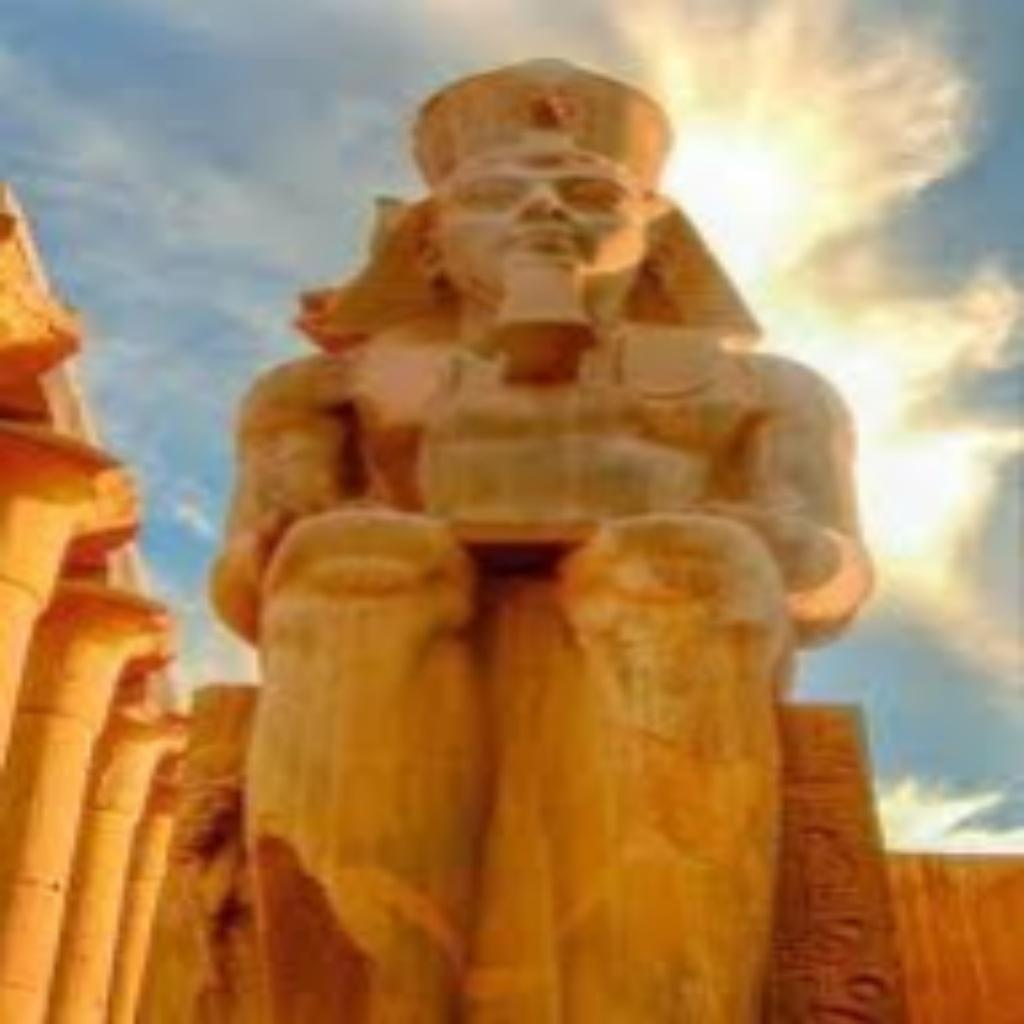Statue of King Ramses II Luxor Temple: (209, 54, 874, 1020)
